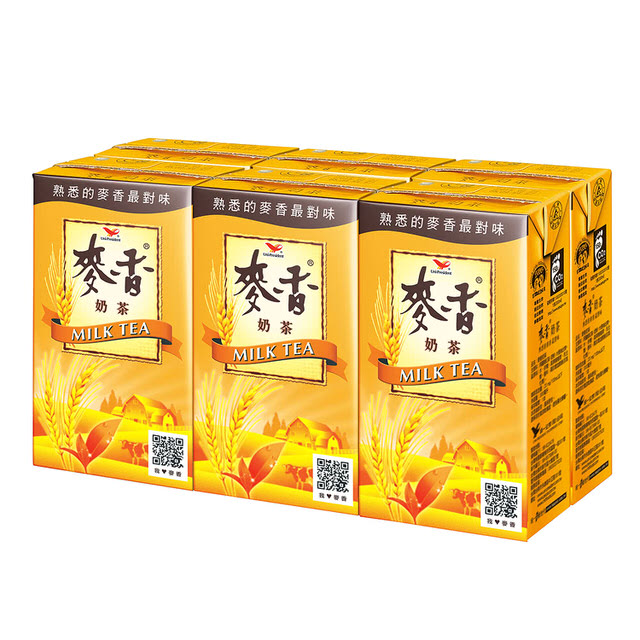milk tea: (355, 176, 572, 550), (187, 168, 354, 514), (29, 157, 194, 492)
